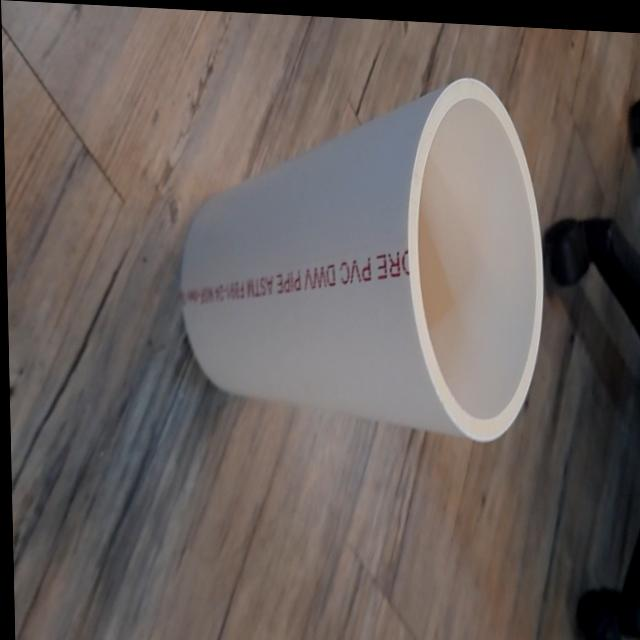CORAL: (163, 53, 556, 497)
